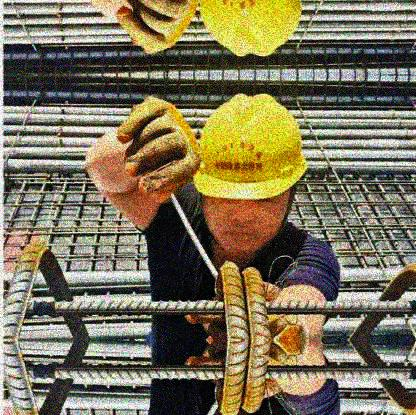helmet: (192, 92, 307, 255)
